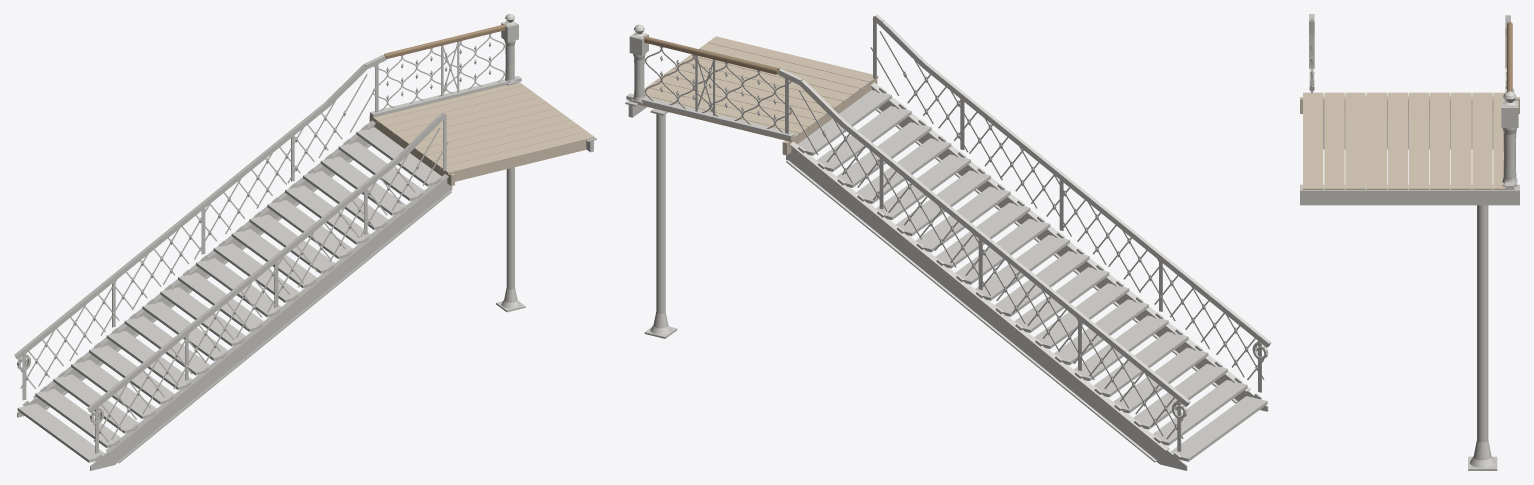
Rendered from hp-gallery-stair.glb.
3 renders of one model, left to right at view 1: azimuth 30°, elevation 25°; view 2: azimuth 150°, elevation 25°; view 3: azimuth 270°, elevation 25°, orthographic. The views are drawn at different scales.
Parts seen in each view (by area): view 1: Treads, LandingDeck, String_L, Balustrade_L, Balustrade_R, String_R, LandingRailLattice, LandingJoists, TreadBrackets, LandingColumn; view 2: Treads, LandingDeck, String_R, Balustrade_L, Balustrade_R, String_L, LandingRailLattice, LandingColumn, TreadBrackets, LandingJoists; view 3: LandingDeck, LandingEdgeGirder, LandingColumn, PostMShaft, LandingColumnFoot, PostMBlocks, LandingJoists, Balustrade_L, Treads, LandingHandrailTop.
Part boxes in pixels (bbox=[...]): Treads: bbox=[17, 127, 441, 462]; LandingDeck: bbox=[370, 82, 594, 174]; String_L: bbox=[90, 174, 452, 470]; Balustrade_L: bbox=[87, 112, 448, 453]; Balustrade_R: bbox=[14, 54, 385, 400]; String_R: bbox=[17, 120, 375, 417]; LandingRailLattice: bbox=[370, 33, 521, 117]; LandingJoists: bbox=[369, 116, 586, 186]; TreadBrackets: bbox=[22, 124, 441, 460]; LandingColumn: bbox=[506, 167, 514, 289]; Treads: bbox=[797, 90, 1267, 461]; LandingDeck: bbox=[629, 36, 878, 141]; String_R: bbox=[786, 141, 1187, 470]; Balustrade_L: bbox=[870, 14, 1271, 392]; Balustrade_R: bbox=[778, 68, 1190, 451]; String_L: bbox=[870, 82, 1268, 411]; LandingRailLattice: bbox=[626, 46, 794, 139]; LandingColumn: bbox=[656, 114, 665, 313]; TreadBrackets: bbox=[798, 87, 1261, 459]; LandingJoists: bbox=[782, 79, 877, 155]; LandingDeck: bbox=[1303, 92, 1505, 189]; LandingEdgeGirder: bbox=[1300, 184, 1519, 205]; LandingColumn: bbox=[1477, 205, 1488, 441]; PostMShaft: bbox=[1502, 128, 1517, 183]; LandingColumnFoot: bbox=[1470, 438, 1495, 467]; PostMBlocks: bbox=[1501, 100, 1518, 186]; LandingJoists: bbox=[1300, 97, 1519, 184]; Balustrade_L: bbox=[1309, 14, 1314, 93]; Treads: bbox=[1323, 95, 1493, 149]; LandingHandrailTop: bbox=[1507, 22, 1512, 91].
Size of the model in its own units: 8.64 by 4.61 by 2.42.
